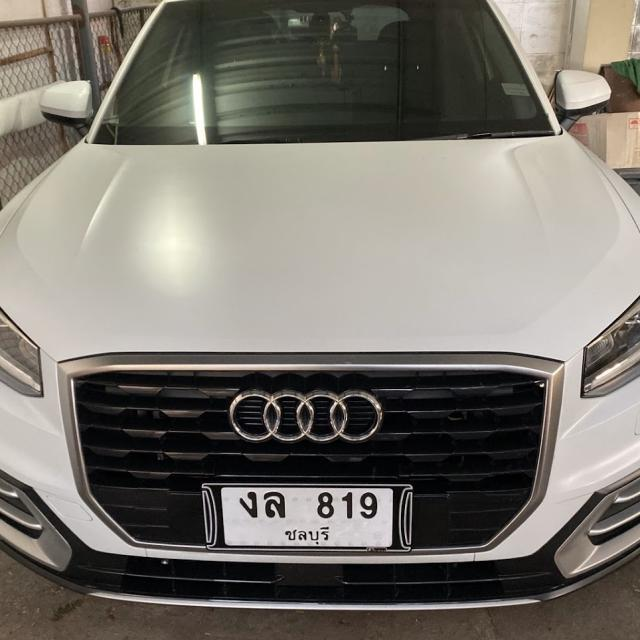license_plate: (201, 481, 416, 554)
